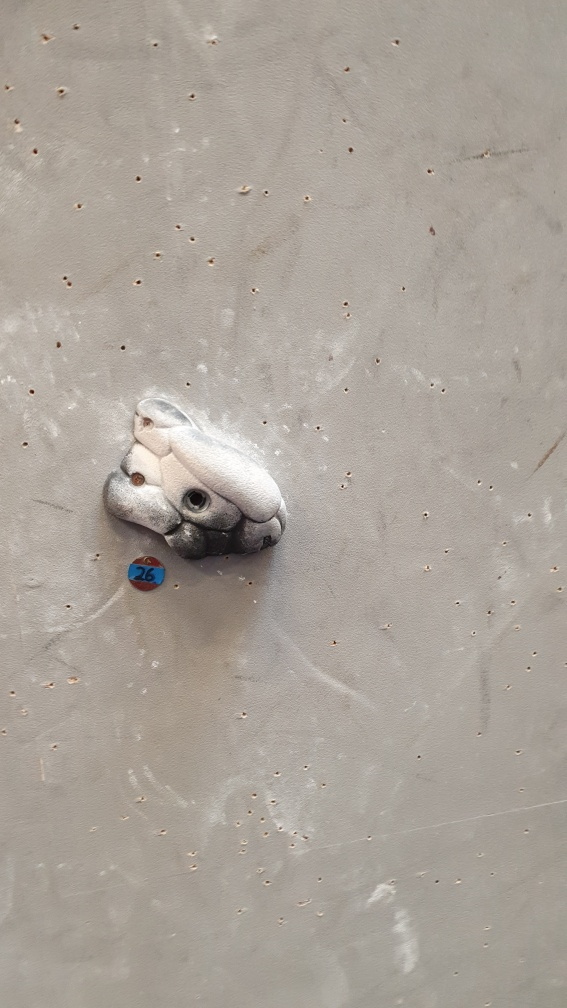Hand Start: (125, 554, 167, 593)
Jug: (99, 395, 291, 562)
